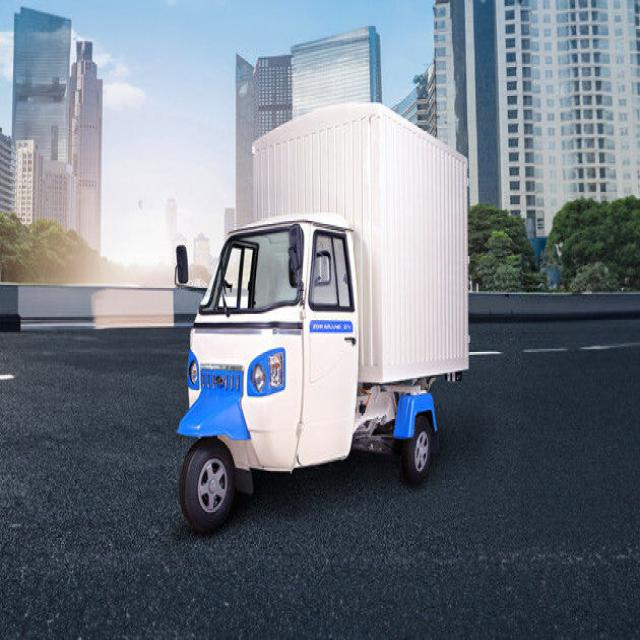autorickshaw: (179, 105, 470, 530)
